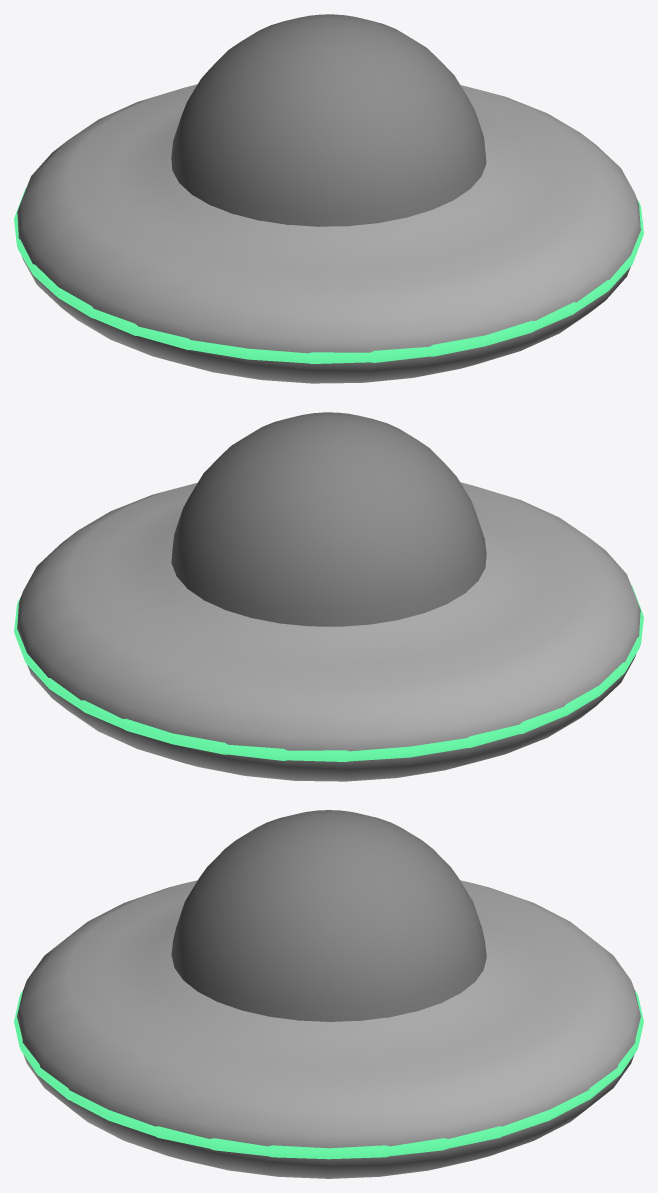
The model's file is ufo2.glb.
3 views of the same model, one above another, from view 1: azimuth 30°, elevation 25°; view 2: azimuth 150°, elevation 25°; view 3: azimuth 270°, elevation 25° (orthographic).
Visible parts, largest first — view 1: Sphère, Sphère.001, ToreSurf; view 2: Sphère, Sphère.001, ToreSurf; view 3: Sphère, Sphère.001, ToreSurf.
Boxes of the visible parts, left/top/right/bottom form: Sphère: left=17, top=84, right=640, bottom=383; Sphère.001: left=171, top=14, right=486, bottom=226; ToreSurf: left=14, top=187, right=643, bottom=363; Sphère: left=17, top=482, right=640, bottom=781; Sphère.001: left=171, top=412, right=486, bottom=626; ToreSurf: left=14, top=585, right=643, bottom=761; Sphère: left=17, top=880, right=640, bottom=1178; Sphère.001: left=171, top=810, right=486, bottom=1021; ToreSurf: left=14, top=991, right=643, bottom=1159.
Bounding box in the file's own units: 6.71 × 3.3 × 6.71.
